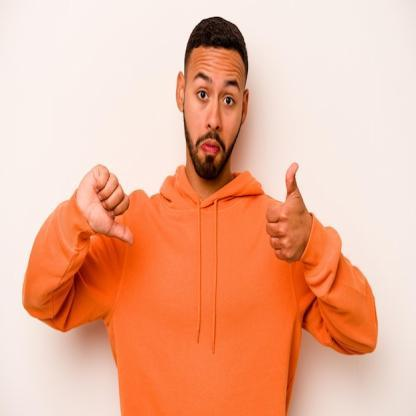thumb_down: (72, 156, 138, 248)
thumb_up: (262, 157, 312, 267)
